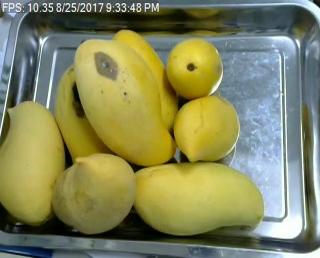Mango: (75, 39, 177, 165), (132, 161, 263, 235), (0, 100, 65, 224), (49, 153, 135, 234), (112, 29, 178, 130), (55, 62, 109, 165), (173, 96, 240, 162), (166, 38, 223, 99)
